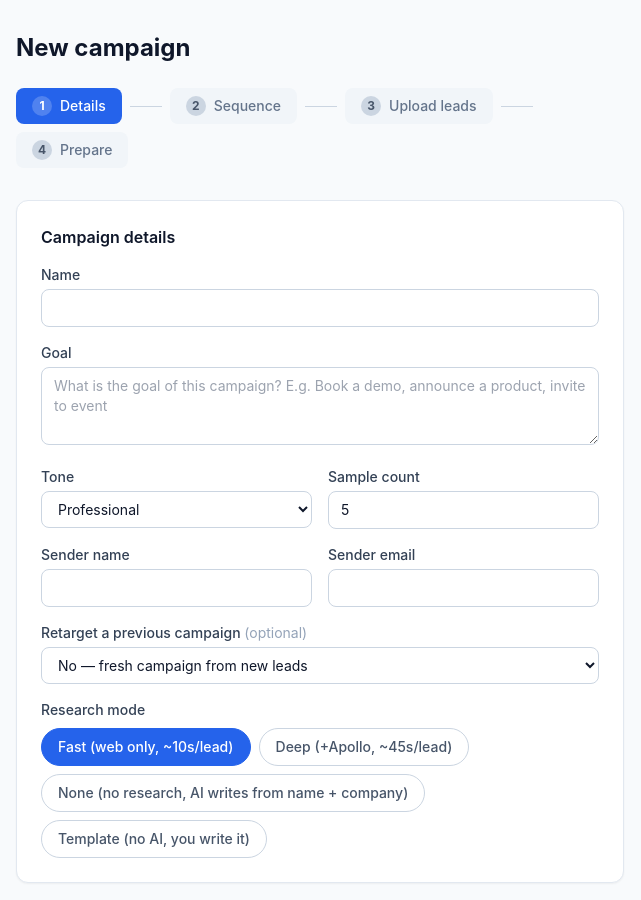
Scenario: Submitting step 1 › blocks submit in template mode with an empty body
Expected: the heading "Campaign details" is shown, [41,227,175,247]
Type "Spring outreach" into the field labelled "Name". click: (320, 308)
box: [41,289,599,327]
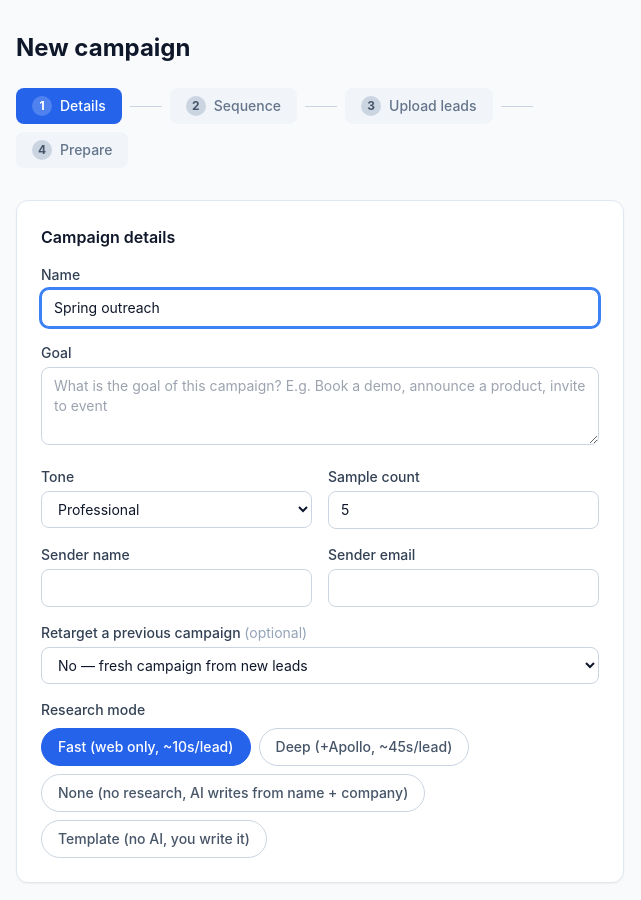
Type "Book a discovery call" into the text box labelled "Goal". click: (320, 406)
box: [41,367,599,445]
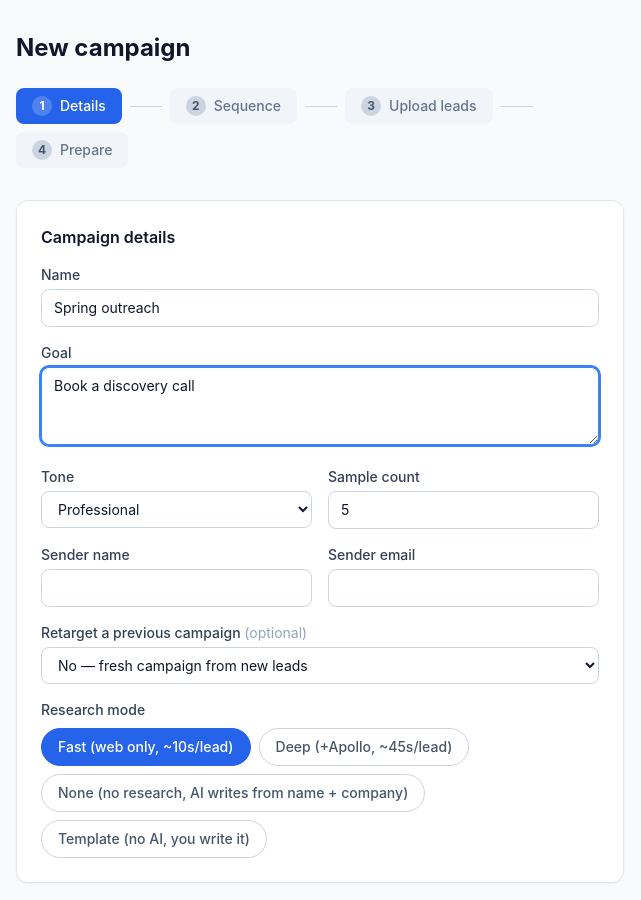
Type "Anthony" into the field labelled "Sender name". click: (176, 588)
box: [41,569,312,607]
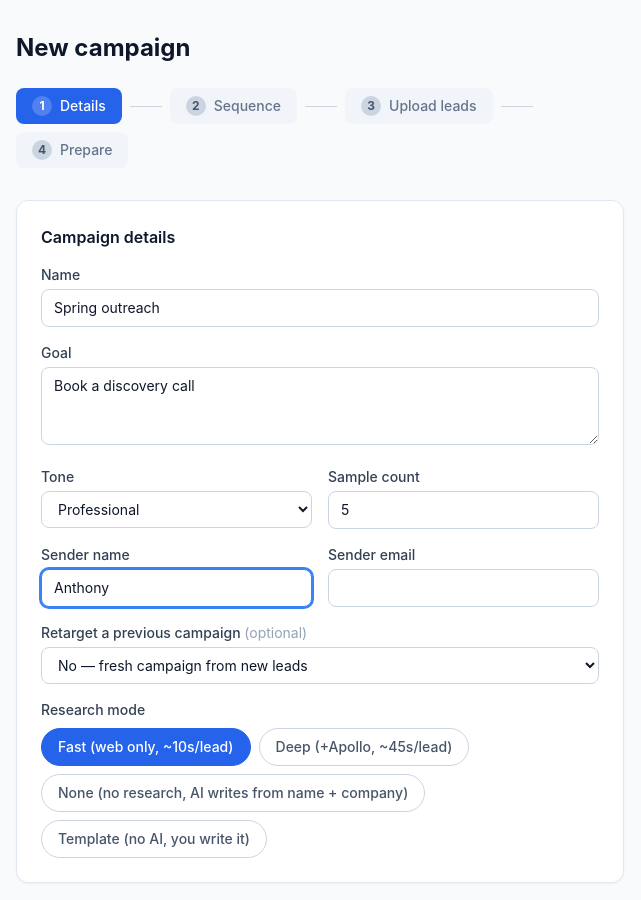
Type "me@example.com" into the field labelled "Sender email". click: (464, 588)
box: [328,569,599,607]
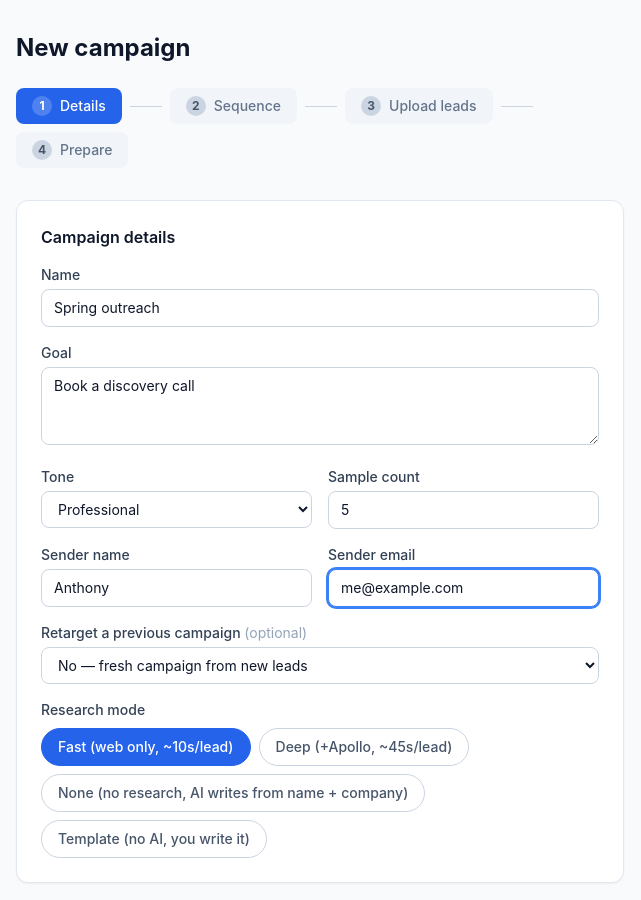
Click the radio button labelled "Template (no AI, you write it)". click: (154, 839)
box: [41,820,267,858]
(page scrolled)
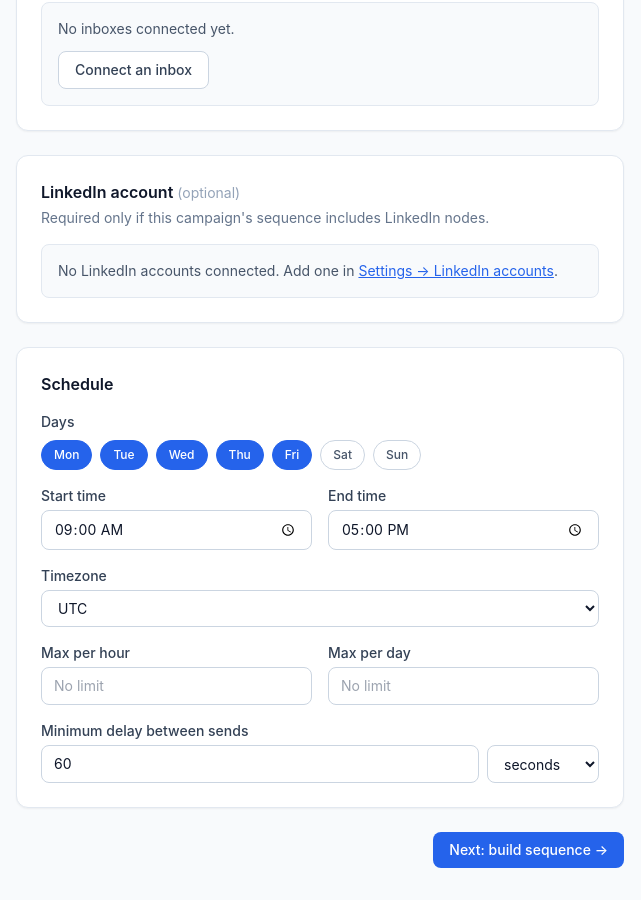
Click the button with test id "step1-submit". click: (529, 850)
box: [433,832,624,868]
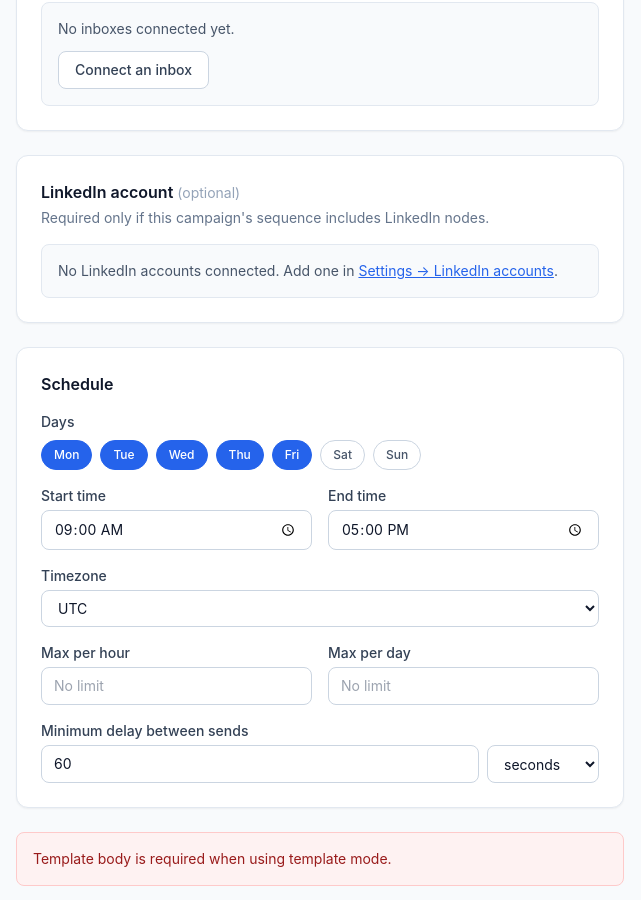
Now the text with test id "step1-error" shows "Template body is required", box [33,850,392,867]
